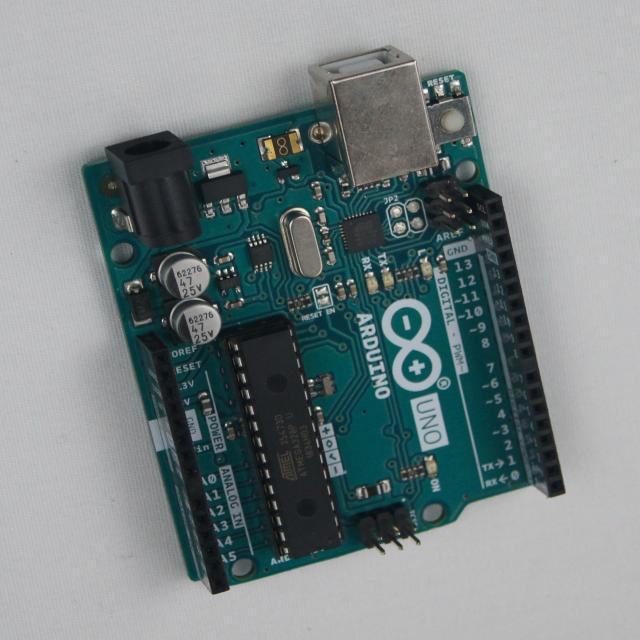Arduino Uno -Green-: (85, 47, 565, 594)
